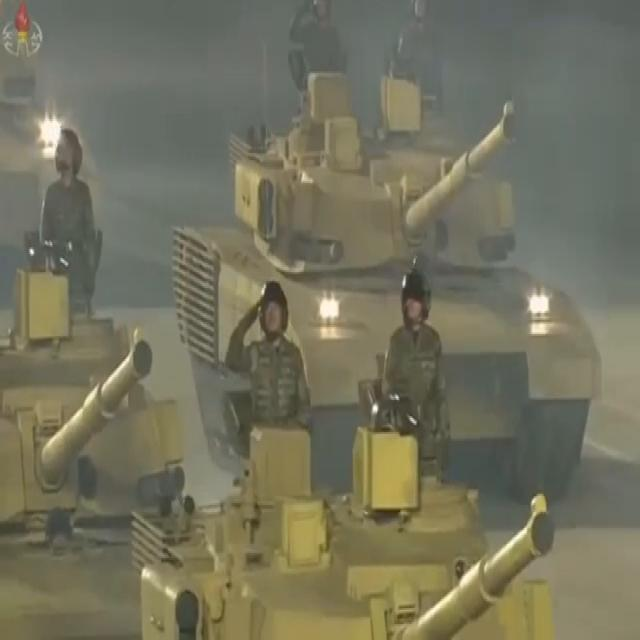north tank: (145, 12, 640, 501), (118, 386, 582, 640), (1, 234, 200, 541)
